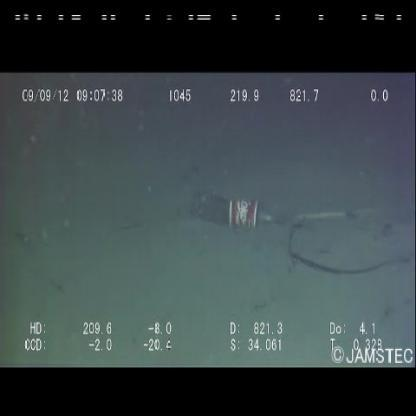Rác: (185, 177, 291, 245)
